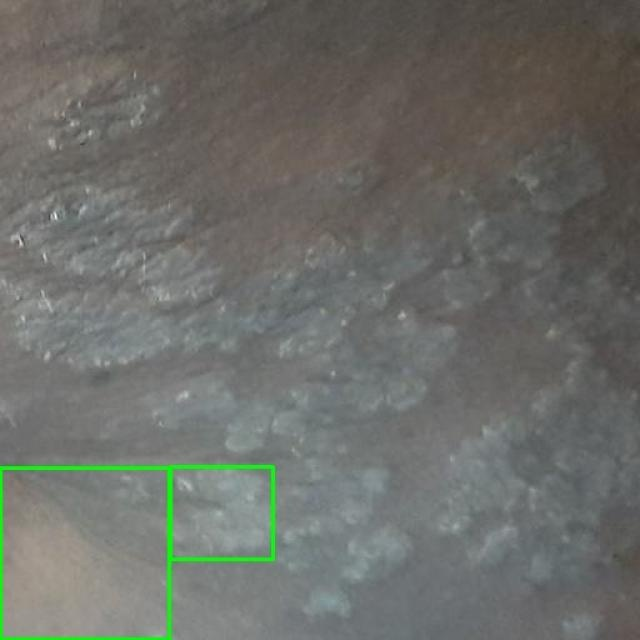Seborrheic Dermatitis: (0, 468, 169, 639), (170, 466, 272, 559)
